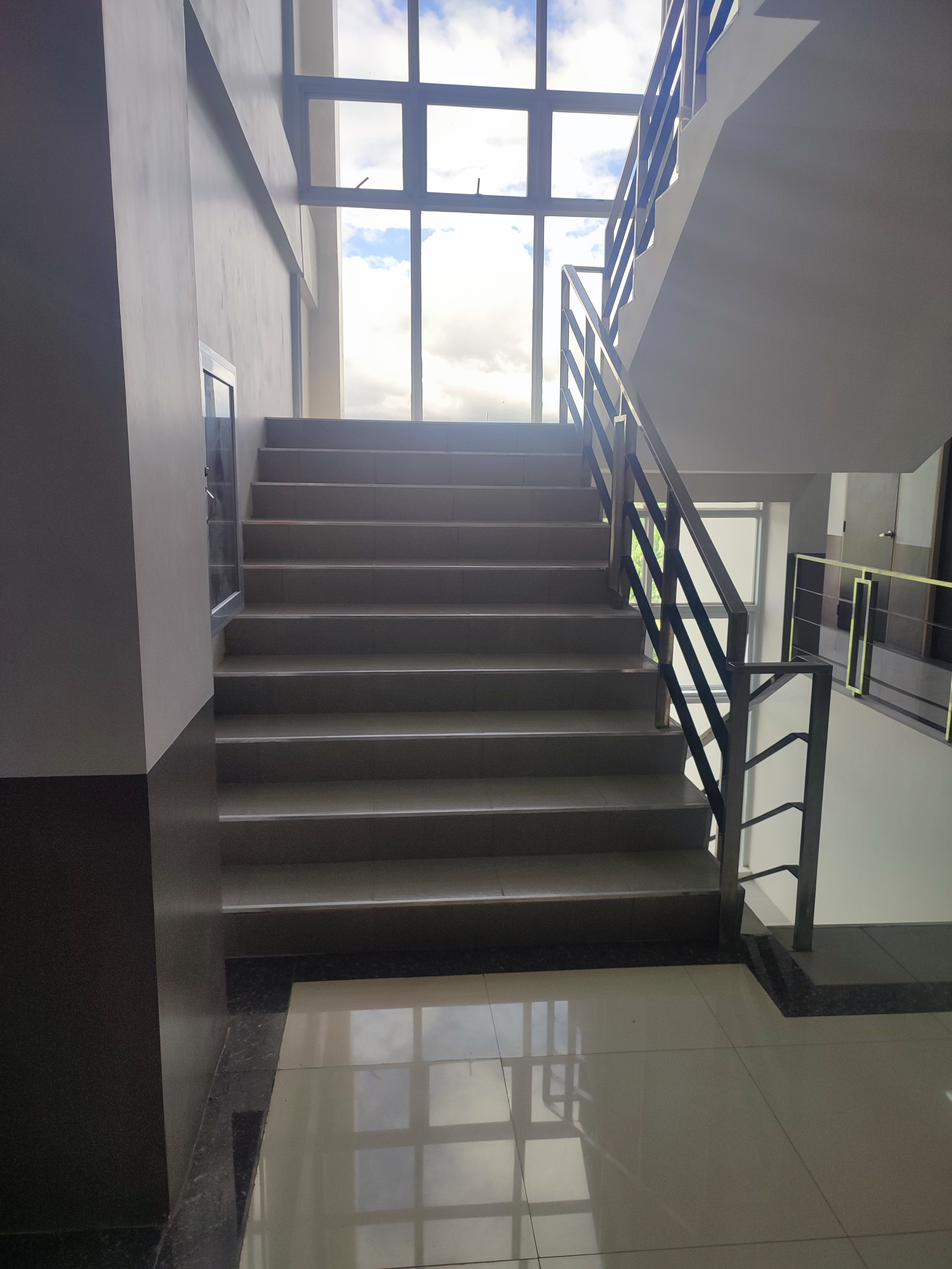Staircase: (214, 418, 727, 1015)
